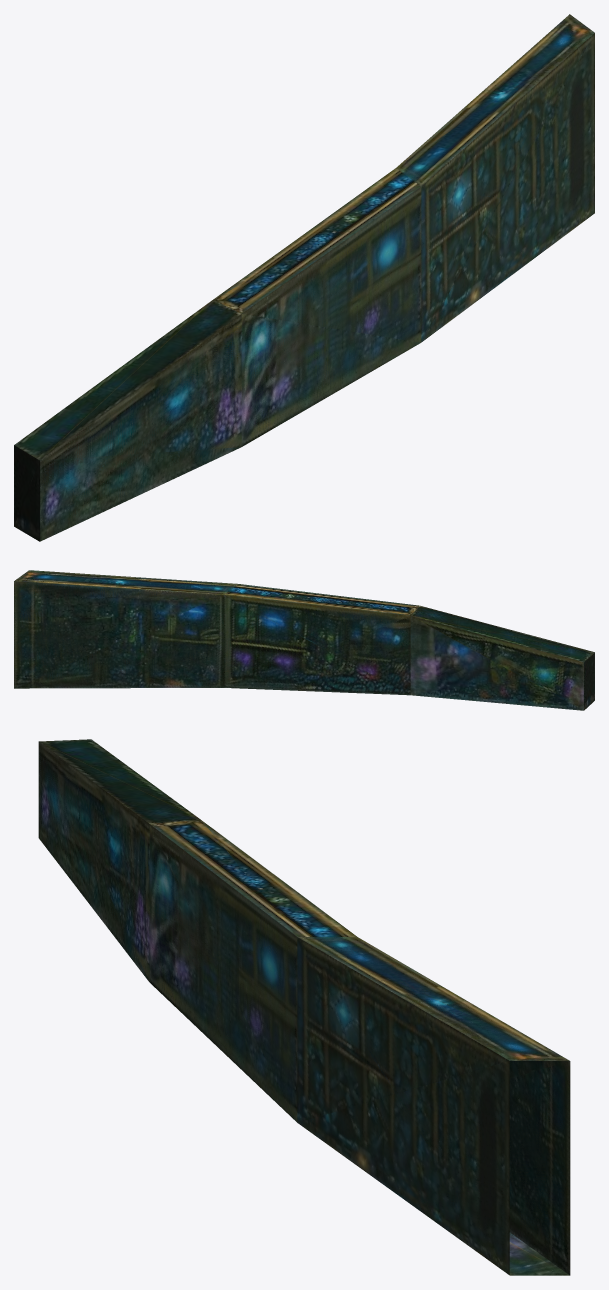
File: wall_up_right_lvl_2.glb
3 renders of one model, top to bottom at view 1: azimuth 30°, elevation 25°; view 2: azimuth 150°, elevation 25°; view 3: azimuth 270°, elevation 25°, orthographic. The views are drawn at different scales.
Parts seen in each view (by area): view 1: Mesh_0.002; view 2: Mesh_0.002; view 3: Mesh_0.002.
Boxes of the visible parts, <box> form: Mesh_0.002: <box>14,14,594,541</box>; Mesh_0.002: <box>14,570,594,710</box>; Mesh_0.002: <box>38,739,570,1275</box>.
Size of the model in its own units: 0.1917 by 0.0437 by 0.0979.
Materials: 1 (1 with a texture image).
